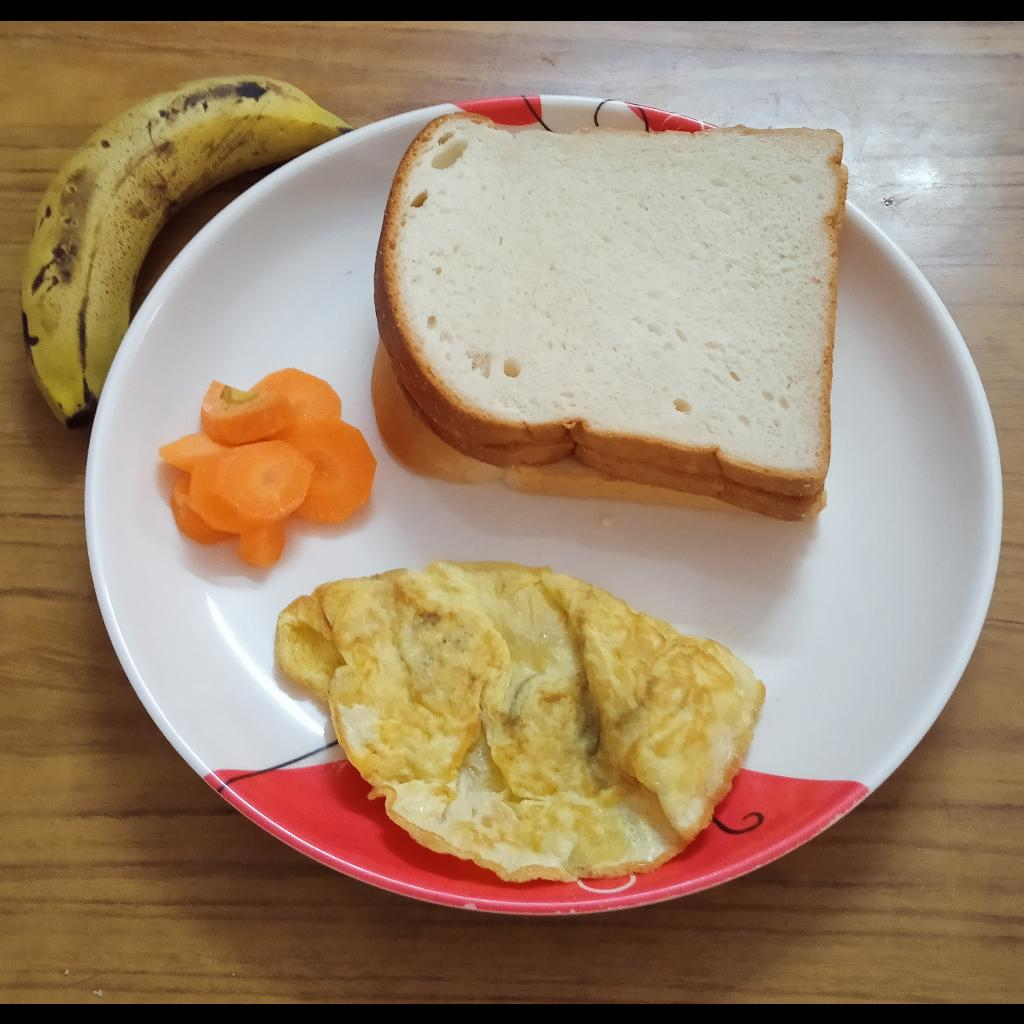banana: (20, 73, 357, 429)
bread: (372, 109, 851, 524)
carrot: (157, 364, 378, 569)
egg-poached: (273, 559, 769, 885)
